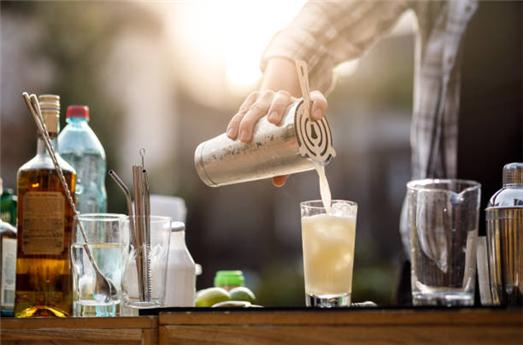alcohol: (15, 93, 72, 319), (194, 98, 333, 190), (48, 104, 107, 219), (300, 199, 358, 308), (117, 215, 173, 310), (71, 245, 121, 316), (0, 186, 20, 317), (73, 212, 129, 249)
